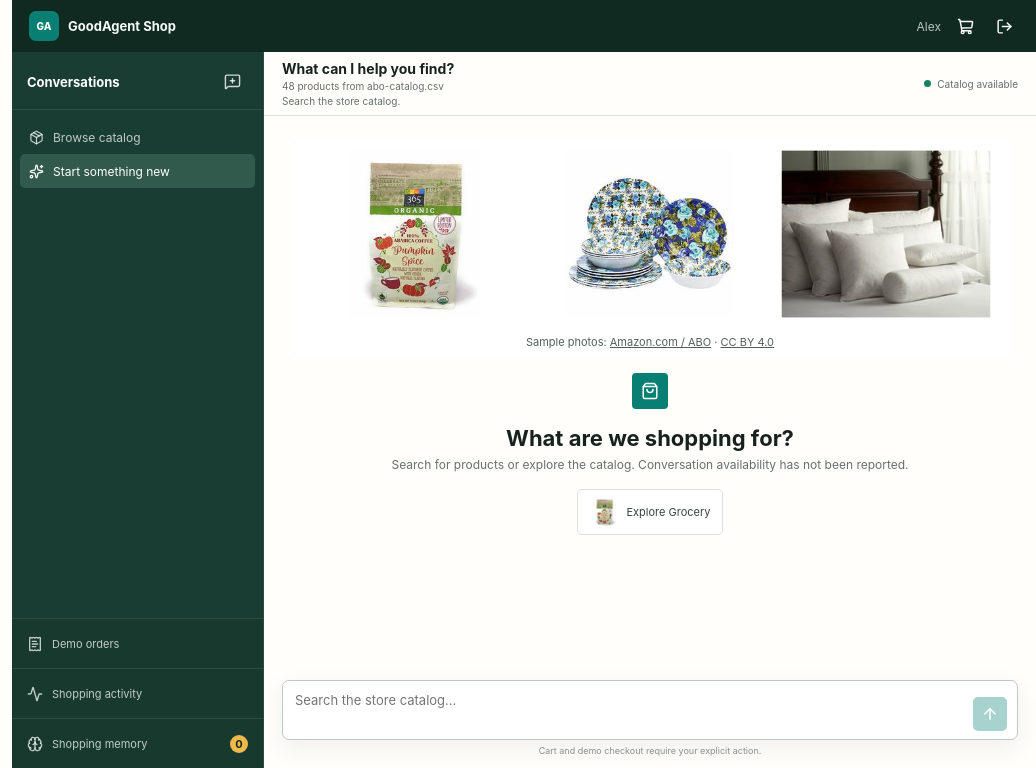
ShopperApp › retries only the original chat receipt while preserving a newer draft
Type "Original question" into the text box named "Shopping request" at (628, 710), box [291,689,965,731]
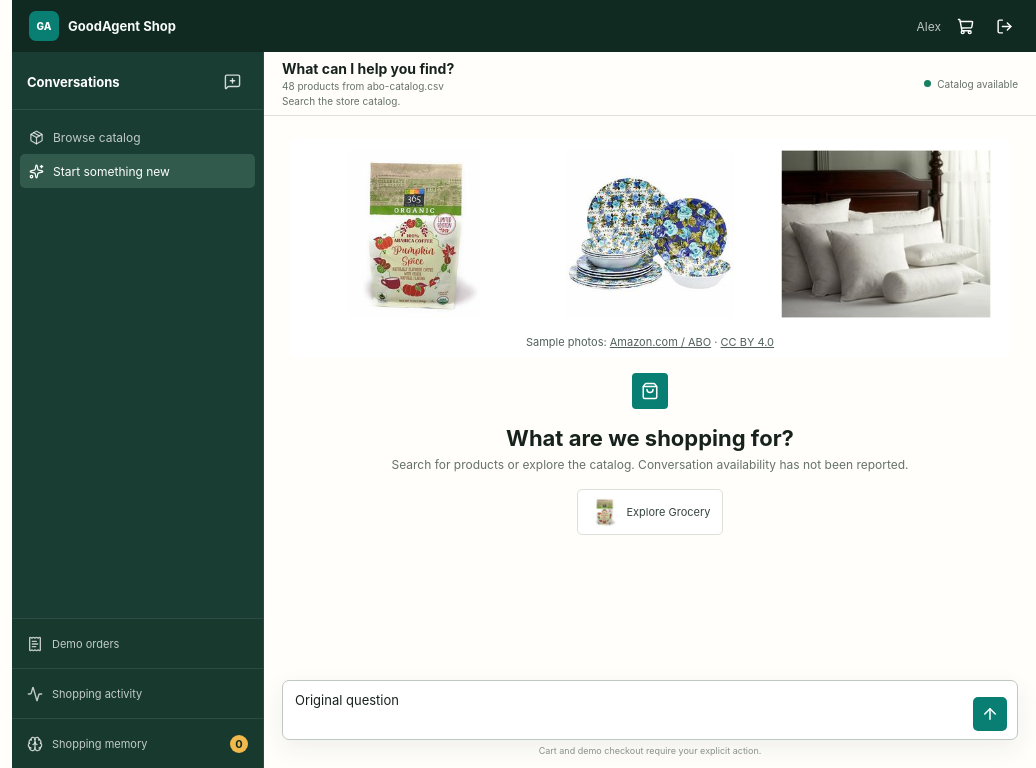
Click the button named "Send request" at (990, 714), box [973,697,1007,731]
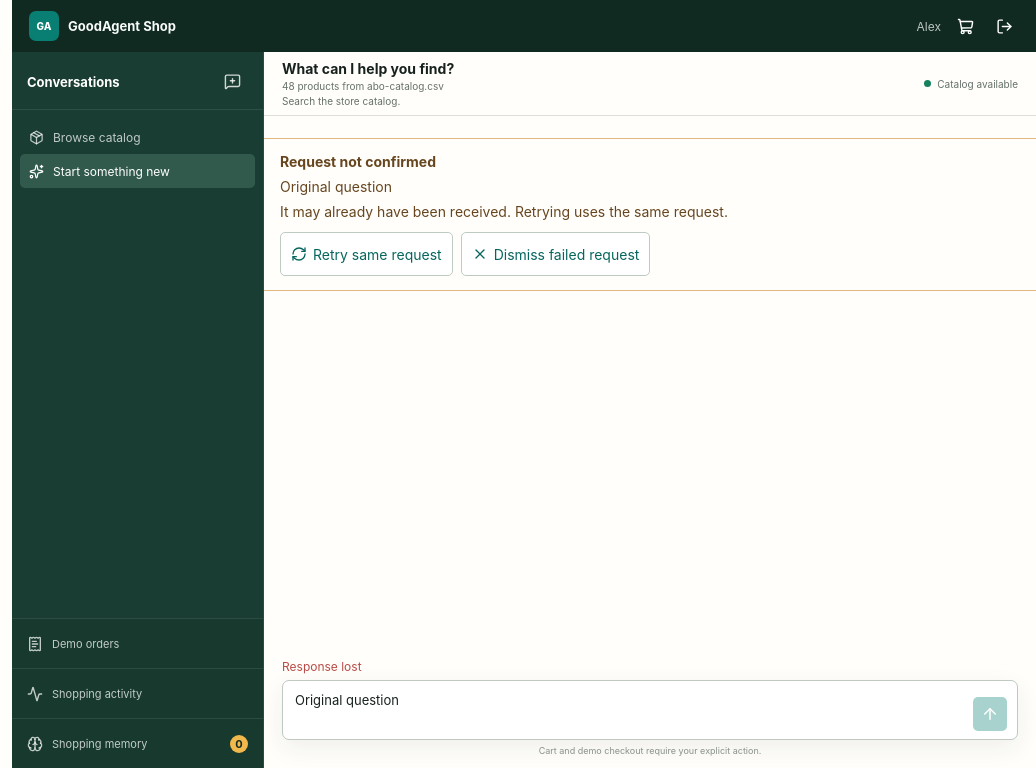
Check: the button "Retry same request" is shown, box [280,232,453,276]
Replace the text in the text box named "Shopping request" with "Newer unsent question" at (628, 710), box [291,689,965,731]
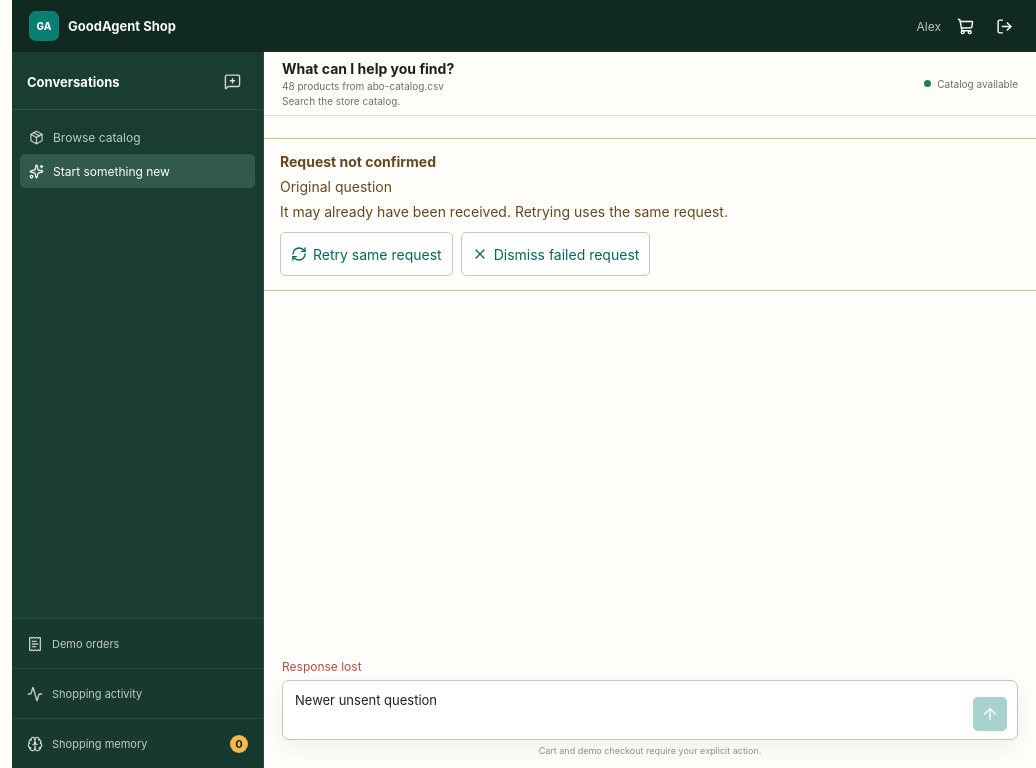
Check: the button named "Send request" is disabled, box [973,697,1007,731]
Press Enter in the text box named "Shopping request", box [291,689,965,731]
Click the button "Retry same request" at (366, 254), box [280,232,453,276]
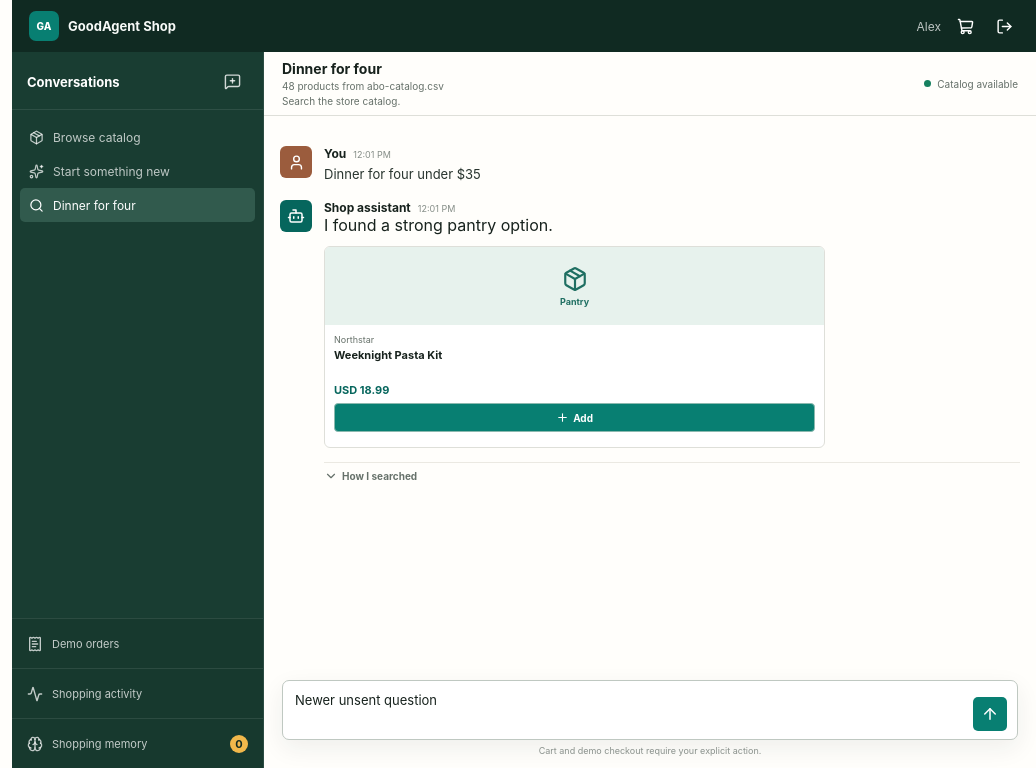
Check: the text "I found a strong pantry option." is shown, box [324,215,553,235]
Check: the button "Retry same request" is gone
Check: the button named "Send request" is enabled, box [973,697,1007,731]
